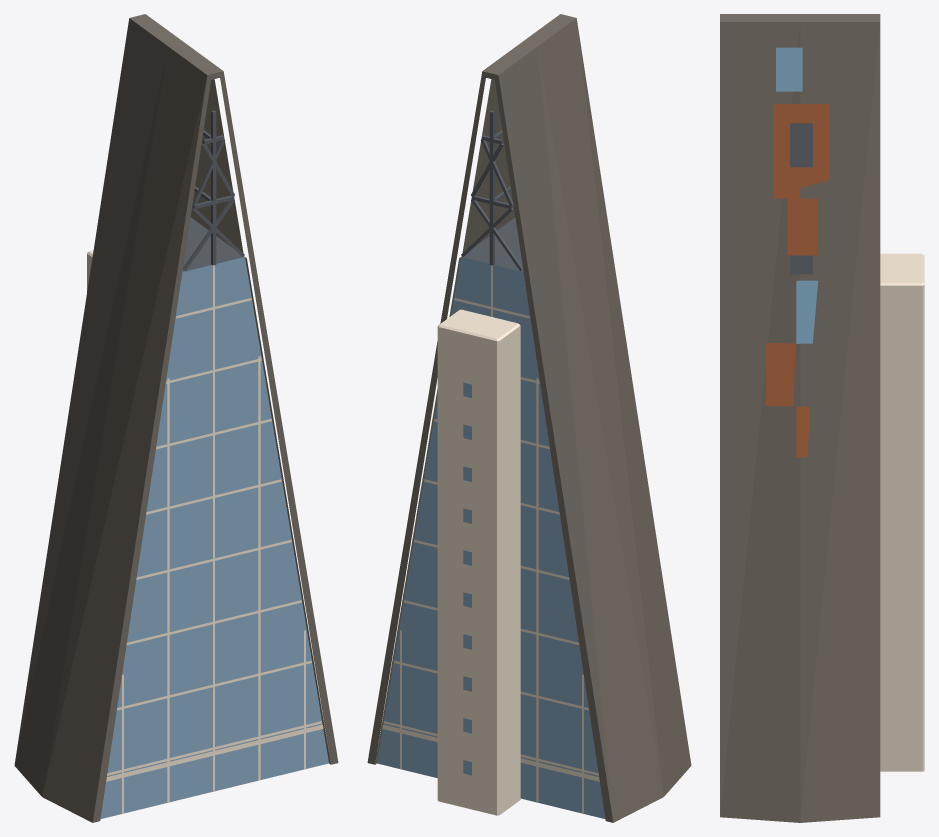
The model's file is mexico-city-torre-insignia.glb.
3 renders of one model, left to right at view 1: azimuth 30°, elevation 25°; view 2: azimuth 150°, elevation 25°; view 3: azimuth 270°, elevation 25°, orthographic. The views are drawn at different scales.
Parts seen in each view (by area): view 1: Torre Insignia; view 2: Torre Insignia; view 3: Torre Insignia.
Boxes of the visible parts, x1,y1,x2,y2 form: Torre Insignia: (14, 14, 338, 822); Torre Insignia: (367, 14, 691, 822); Torre Insignia: (720, 14, 924, 822).
Size of the model in its own units: 49.6 by 127 by 31.95.
